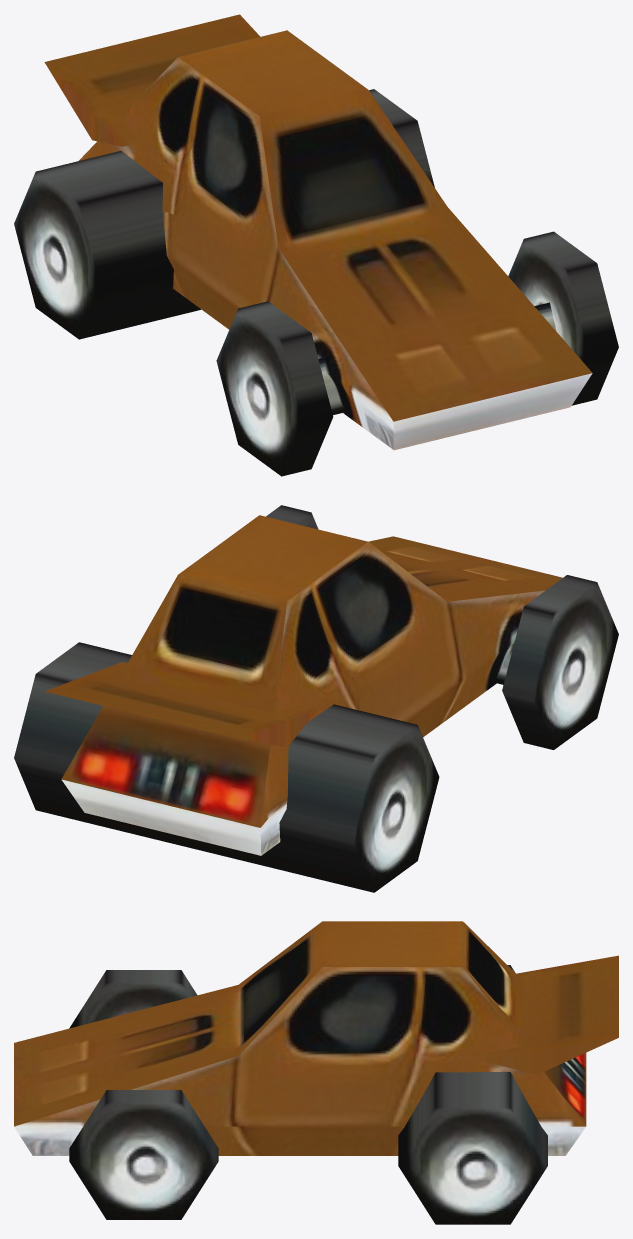
Rendered from dunebuggyprop_hdtex.glb.
3 views of the same model, one above another, from view 1: azimuth 30°, elevation 25°; view 2: azimuth 150°, elevation 25°; view 3: azimuth 270°, elevation 25° (orthographic). The views are drawn at different scales.
Visible parts, largest first — view 1: dunebuggy; view 2: dunebuggy; view 3: dunebuggy.
Part boxes in pixels (x1=…): dunebuggy: x1=14, y1=14, x2=618, y2=476; dunebuggy: x1=14, y1=505, x2=618, y2=892; dunebuggy: x1=14, y1=921, x2=618, y2=1224.
Size of the model in its own units: 2.27 by 1.56 by 4.08.
1 material, 1 textured.
